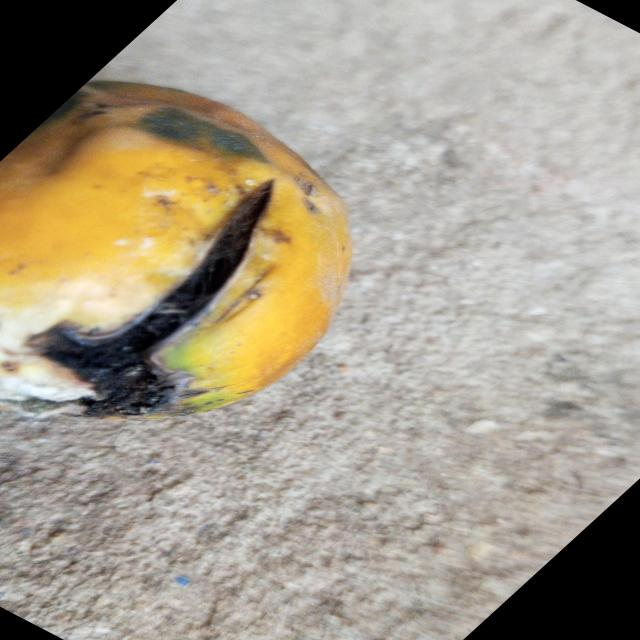damaged: (0, 82, 353, 419)
